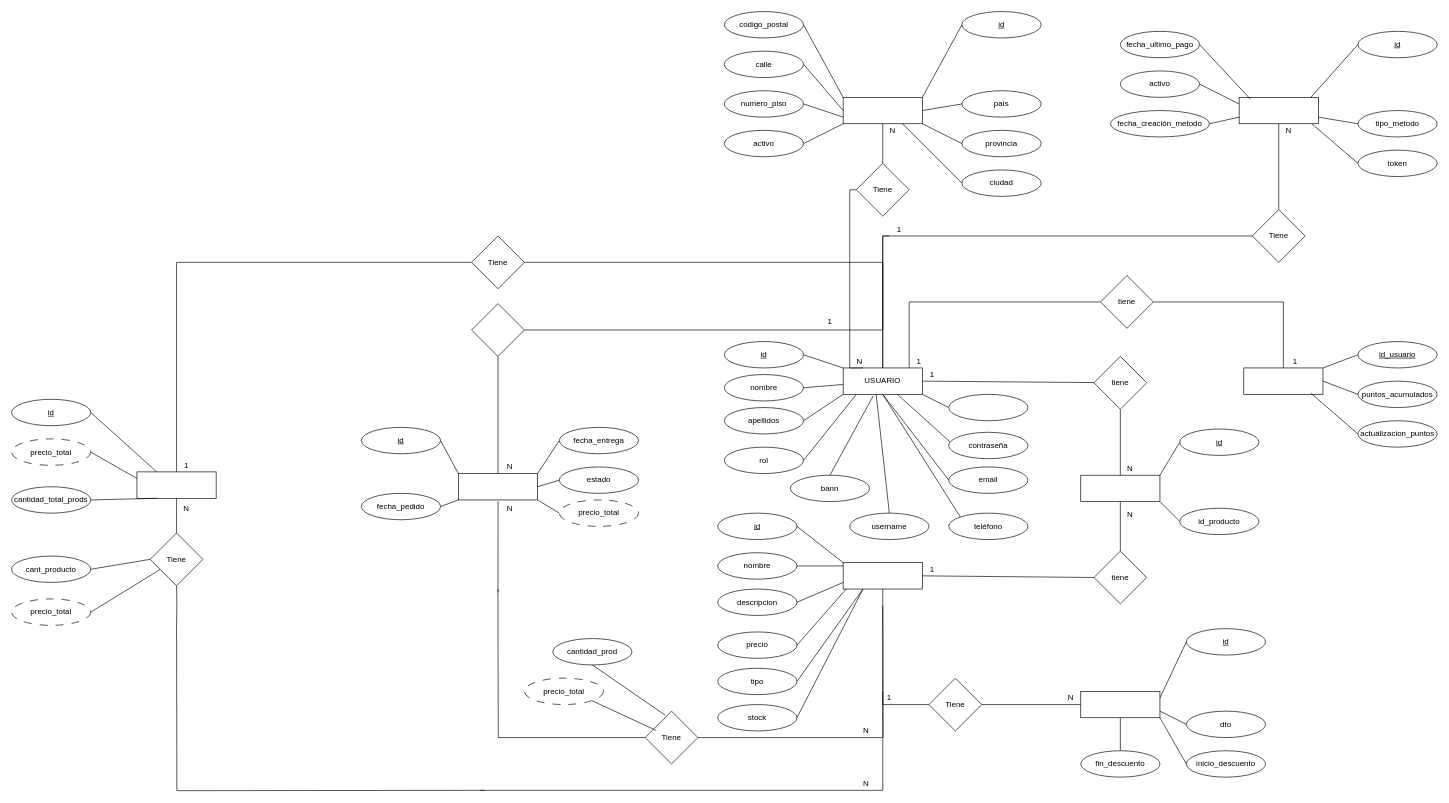
This 1449x803 diagram has some shape labels left out. Here are the shapes that lost their labels. From the top down, the box of each, then its label:
(842, 97, 922, 124): DIRECCIÓN
(1238, 97, 1318, 124): METODOS_PAGO
(471, 303, 524, 356): Hace
(1243, 367, 1323, 394): PUNTOS
(948, 394, 1028, 421): modificacion
(136, 471, 216, 498): CARRITO
(458, 473, 538, 500): PEDIDO
(1080, 475, 1160, 502): FAVORITO
(842, 562, 922, 589): PRODUCTO
(1080, 691, 1160, 718): DESCUENTO
